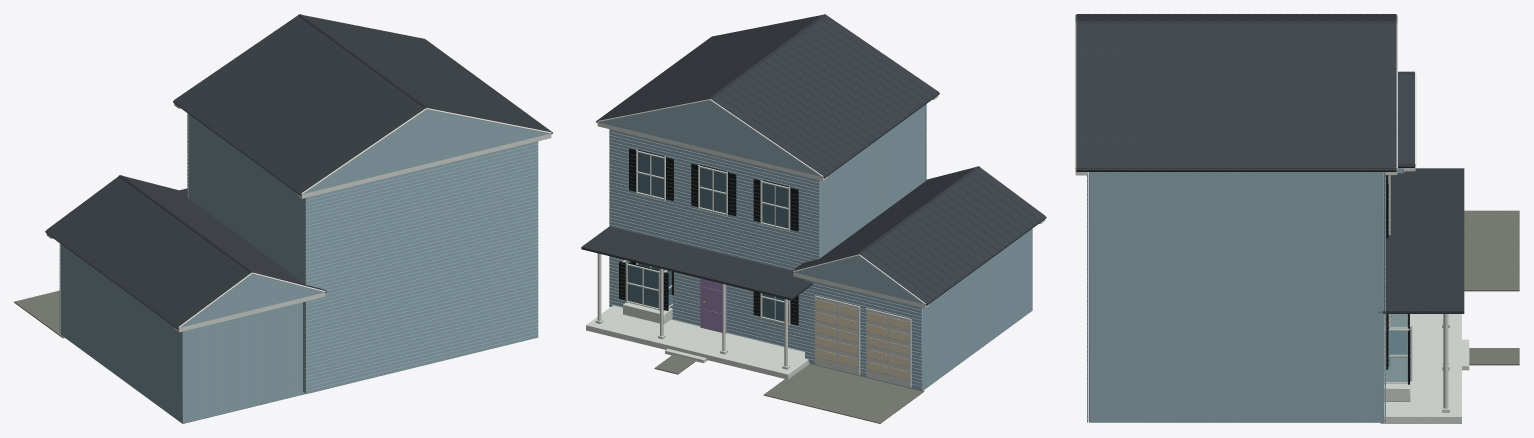
Rendered from GloriaHouse.gltf.
3 views of the same model, side by side, from view 1: azimuth 30°, elevation 25°; view 2: azimuth 150°, elevation 25°; view 3: azimuth 270°, elevation 25° (orthographic). The views are drawn at different scales.
Parts seen in each view (by area): view 1: GloriaHouse__Body, GloriaHouse; view 2: GloriaHouse__Body, GloriaHouse, GloriaHouse__Windows; view 3: GloriaHouse__Body, GloriaHouse, GloriaHouse__Windows.
Boxes of the visible parts, x1,y1,x2,y2 form: GloriaHouse__Body: [45, 14, 552, 423]; GloriaHouse: [14, 188, 187, 338]; GloriaHouse__Body: [586, 14, 1046, 391]; GloriaHouse: [581, 226, 924, 423]; GloriaHouse__Windows: [624, 152, 788, 321]; GloriaHouse__Body: [1075, 14, 1461, 423]; GloriaHouse: [1378, 168, 1519, 412]; GloriaHouse__Windows: [1386, 314, 1407, 381].
Size of the model in its own units: 12.32 by 8.4 by 10.08.
2 materials, 1 textured.
